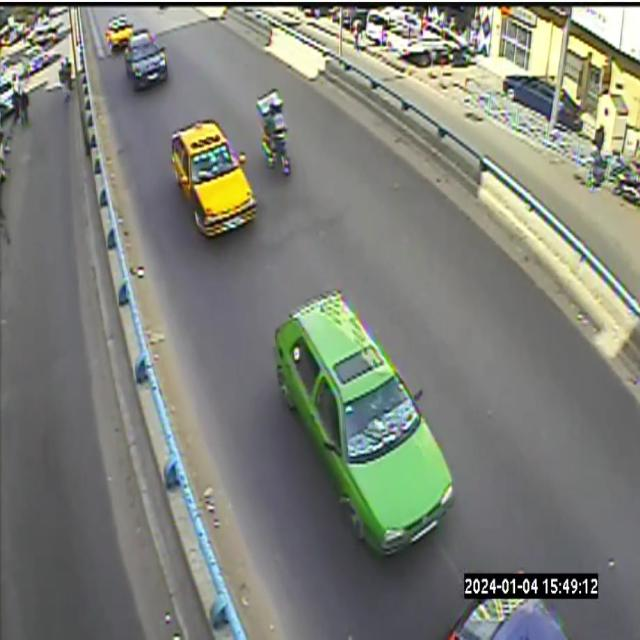car: (273, 290, 454, 554), (171, 121, 256, 234), (449, 598, 568, 639), (125, 33, 168, 89), (105, 14, 133, 52)
